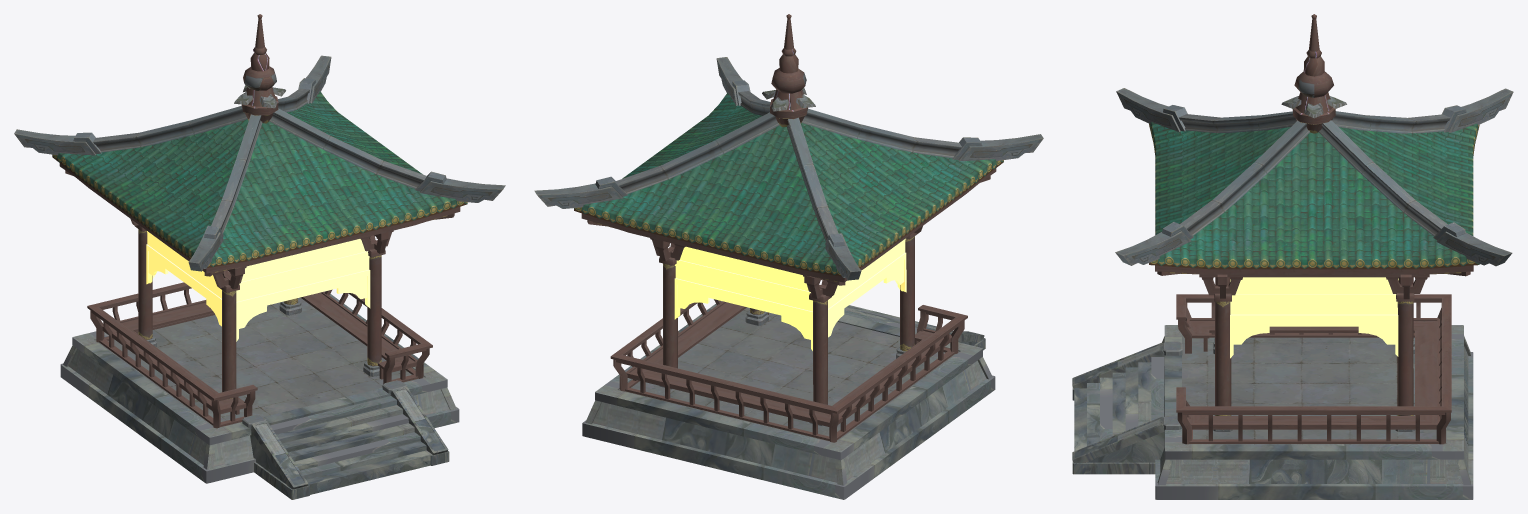
Rendered from Homeworld_Exterior_Ly_Build_House_22_Lod0.fbx.
The picture shows the model from 3 angles, left to right: view 1: azimuth 30°, elevation 25°; view 2: azimuth 150°, elevation 25°; view 3: azimuth 270°, elevation 25°; orthographic projection. The views are drawn at different scales.
Visible parts, largest first — view 1: Homeworld_Exterior_Ly_Build_House_22_Lod0; view 2: Homeworld_Exterior_Ly_Build_House_22_Lod0; view 3: Homeworld_Exterior_Ly_Build_House_22_Lod0.
Part boxes in pixels (x1=…): Homeworld_Exterior_Ly_Build_House_22_Lod0: x1=14, y1=14, x2=505, y2=499; Homeworld_Exterior_Ly_Build_House_22_Lod0: x1=534, y1=14, x2=1043, y2=499; Homeworld_Exterior_Ly_Build_House_22_Lod0: x1=1072, y1=14, x2=1513, y2=499.
Size of what is drawn, in the model's own units: 10.92 by 12.65 by 12.09.
